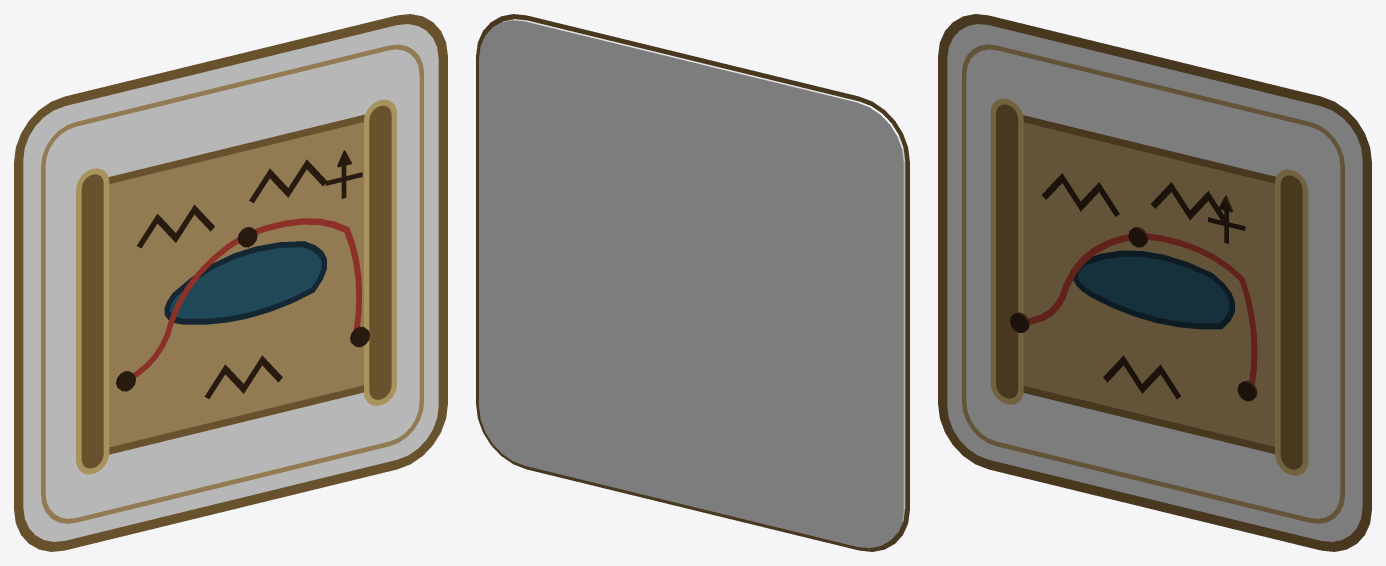
The model's file is obj-karta-putey.glb.
3 views of the same model, side by side, from view 1: azimuth 30°, elevation 25°; view 2: azimuth 150°, elevation 25°; view 3: azimuth 330°, elevation 25° (orthographic).
Parts seen in each view (by area): view 1: obj-karta-putey; view 2: obj-karta-putey; view 3: obj-karta-putey.
Boxes of the visible parts, x1,y1,x2,y2 form: obj-karta-putey: (14,14,447,551); obj-karta-putey: (476,14,909,551); obj-karta-putey: (938,14,1371,551).
Bounding box in the file's own units: 0.3917 × 0.3917 × 0.0375.
